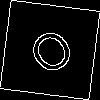O: (24, 24, 84, 85)
